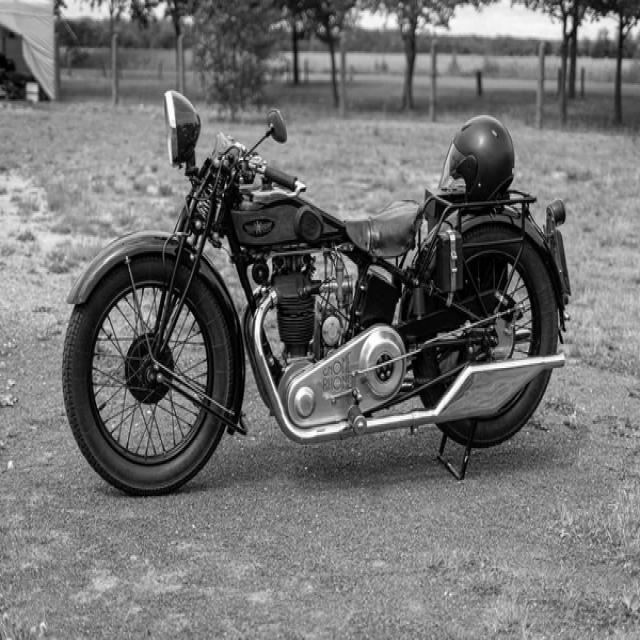Motorcycle: (62, 91, 572, 494)
